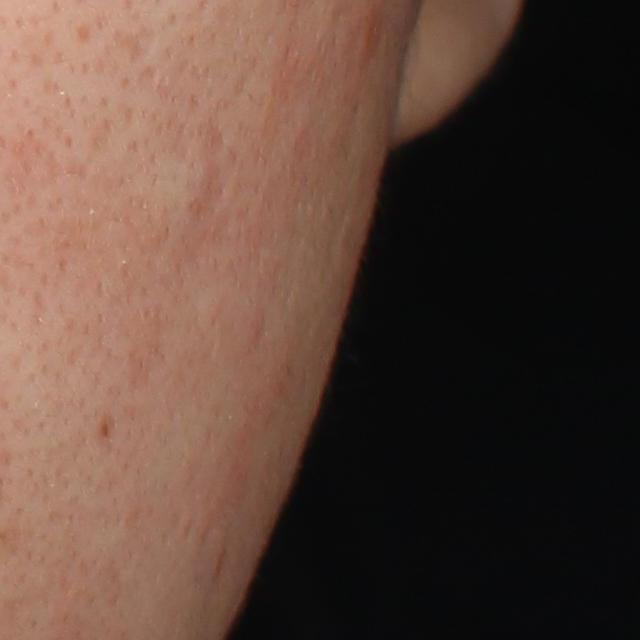atrophic_scar: (186, 116, 231, 241), (110, 24, 156, 65)
